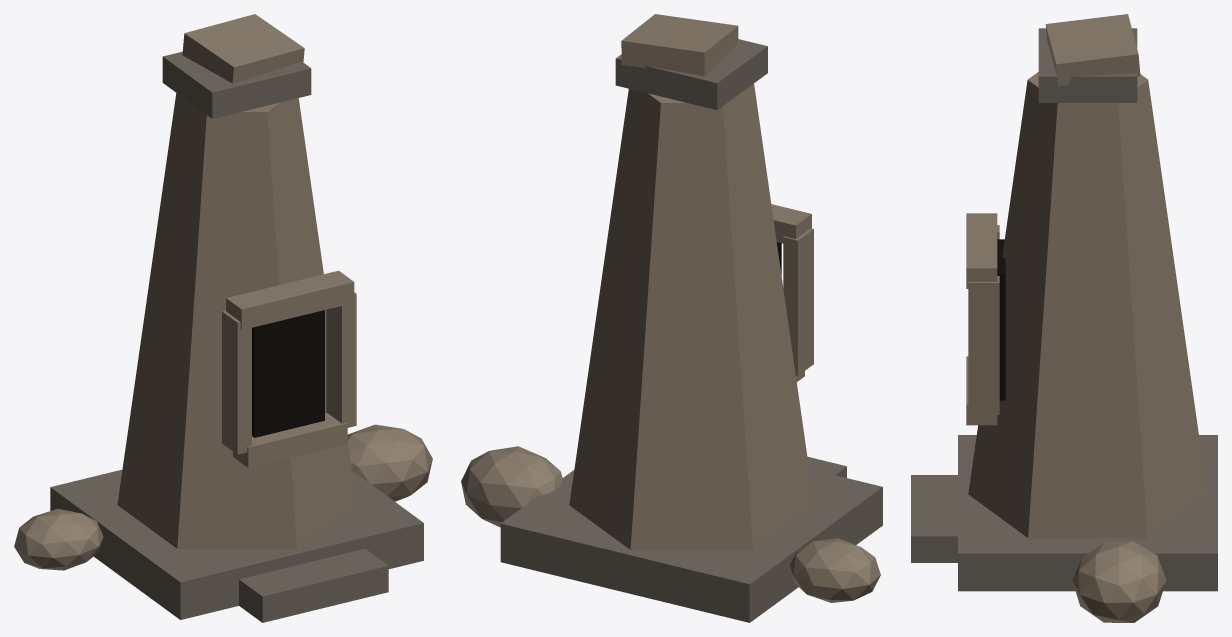
Rendered from tambotoco_huaca_lod0.glb.
The picture shows the model from 3 angles, left to right: view 1: azimuth 30°, elevation 25°; view 2: azimuth 150°, elevation 25°; view 3: azimuth 270°, elevation 25°; orthographic projection. The views are drawn at different scales.
Parts seen in each view (by area): view 1: tambotoco_huaca; view 2: tambotoco_huaca; view 3: tambotoco_huaca.
Boxes of the visible parts, x1,y1,x2,y2 form: tambotoco_huaca: [14, 14, 432, 622]; tambotoco_huaca: [461, 14, 882, 622]; tambotoco_huaca: [911, 14, 1217, 622].
Size of the model in its own units: 4.46 by 5.43 by 2.95.
